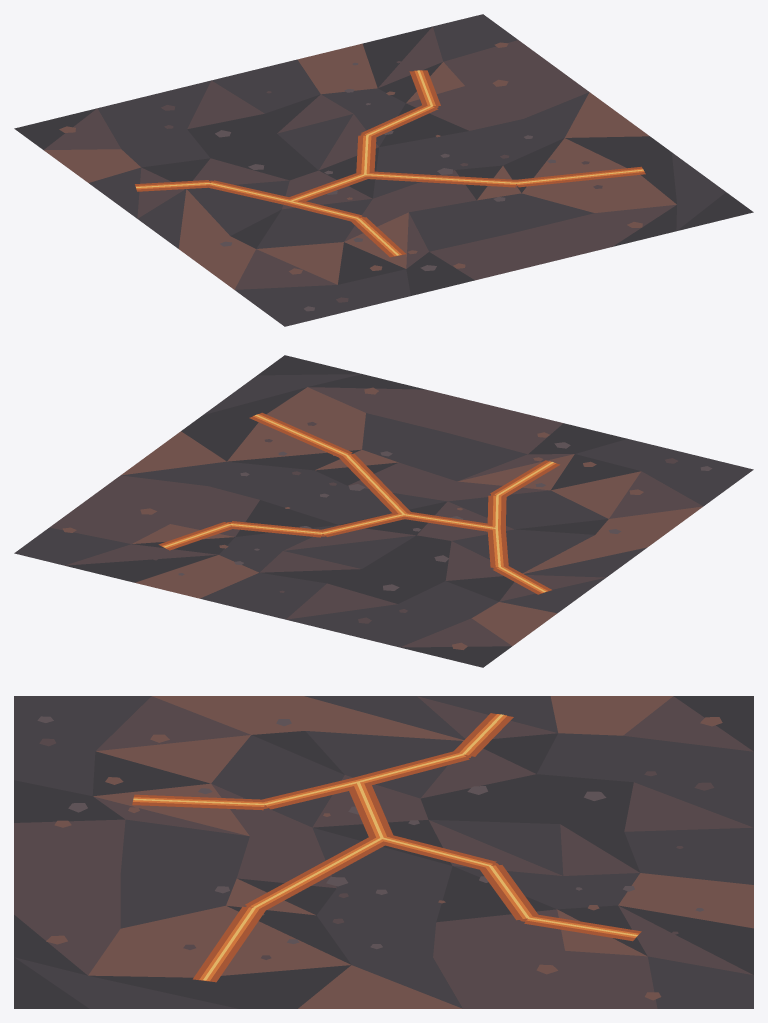
Rendered from 17_Scorched_LavaVeins.fbx.
3 views of the same model, one above another, from view 1: azimuth 30°, elevation 25°; view 2: azimuth 150°, elevation 25°; view 3: azimuth 270°, elevation 25° (orthographic). The views are drawn at different scales.
Parts seen in each view (by area): view 1: 17_Scorched_LavaVeins; view 2: 17_Scorched_LavaVeins; view 3: 17_Scorched_LavaVeins.
Boxes of the visible parts, box(x1,y1,x2,y2) form: 17_Scorched_LavaVeins: box(14, 14, 753, 326); 17_Scorched_LavaVeins: box(14, 355, 753, 667); 17_Scorched_LavaVeins: box(14, 696, 753, 1008).
Size of the model in its own units: 800 by 1.8 by 800.
Materials: 1 (1 with a texture image).
